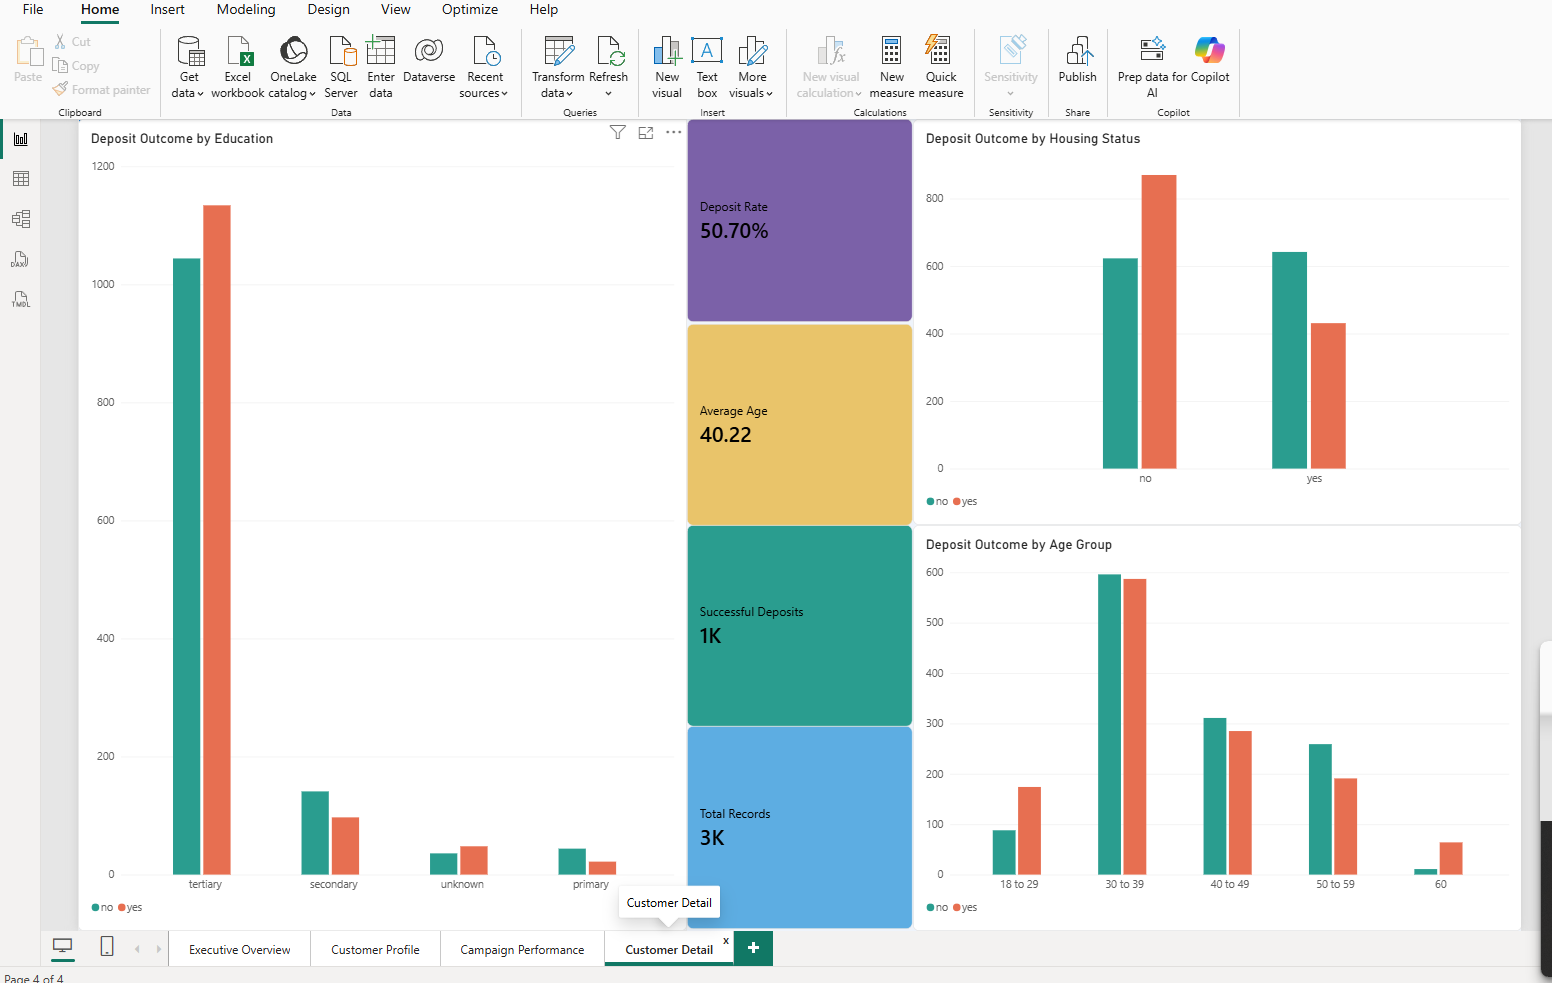

Layout of this report page (visuals, bound fields, positions):
{"tool":"powerbi","page":{"name":"Customer Detail","canvas":[1920,1080],"ordinal":3},"visuals":[{"type":"actionButton","box":[0,0,100,40],"z":0},{"type":"cardVisual","fields":{"Data":["bank.Total Records"]},"box":[810,807.5,300,270],"z":1000},{"type":"cardVisual","fields":{"Data":["bank.Successful Deposits"]},"box":[810,540,300,268],"z":2000},{"type":"cardVisual","fields":{"Data":["bank.Deposit Rate"]},"box":[810,0,300,270],"z":3000},{"type":"cardVisual","fields":{"Data":["bank.Average Age"]},"box":[810,272.5,300,268],"z":4000},{"type":"clusteredColumnChart","title":"Deposit Outcome by Age Group","fields":{"Category":["bank.Age Group"],"Series":["bank.deposit"],"Y":["bank.Total Records"]},"box":[1110,540,810,540],"z":5000},{"type":"clusteredColumnChart","title":"Deposit Outcome by Education","fields":{"Category":["bank.education"],"Series":["bank.deposit"],"Y":["bank.Total Records"]},"box":[0,0,810,1080],"z":6000},{"type":"clusteredColumnChart","title":"Deposit Outcome by Housing Status","fields":{"Category":["bank.housing"],"Series":["bank.deposit"],"Y":["bank.Total Records"]},"box":[1110,0,810,540],"z":7000}]}

Visuals, with their boxes on the page's 1920x1080 design canvas (x1, y1, x2, y2). These are canvas units, not pixel positions in the 1552x983 screenshot, which may show the page scaled, cropped or inside an application window:
actionButton: <box>0,0,100,40</box>
cardVisual - bank.Total Records: <box>810,808,1110,1078</box>
cardVisual - bank.Successful Deposits: <box>810,540,1110,808</box>
cardVisual - bank.Deposit Rate: <box>810,0,1110,270</box>
cardVisual - bank.Average Age: <box>810,272,1110,540</box>
"Deposit Outcome by Age Group" clusteredColumnChart: <box>1110,540,1920,1080</box>
"Deposit Outcome by Education" clusteredColumnChart: <box>0,0,810,1080</box>
"Deposit Outcome by Housing Status" clusteredColumnChart: <box>1110,0,1920,540</box>
